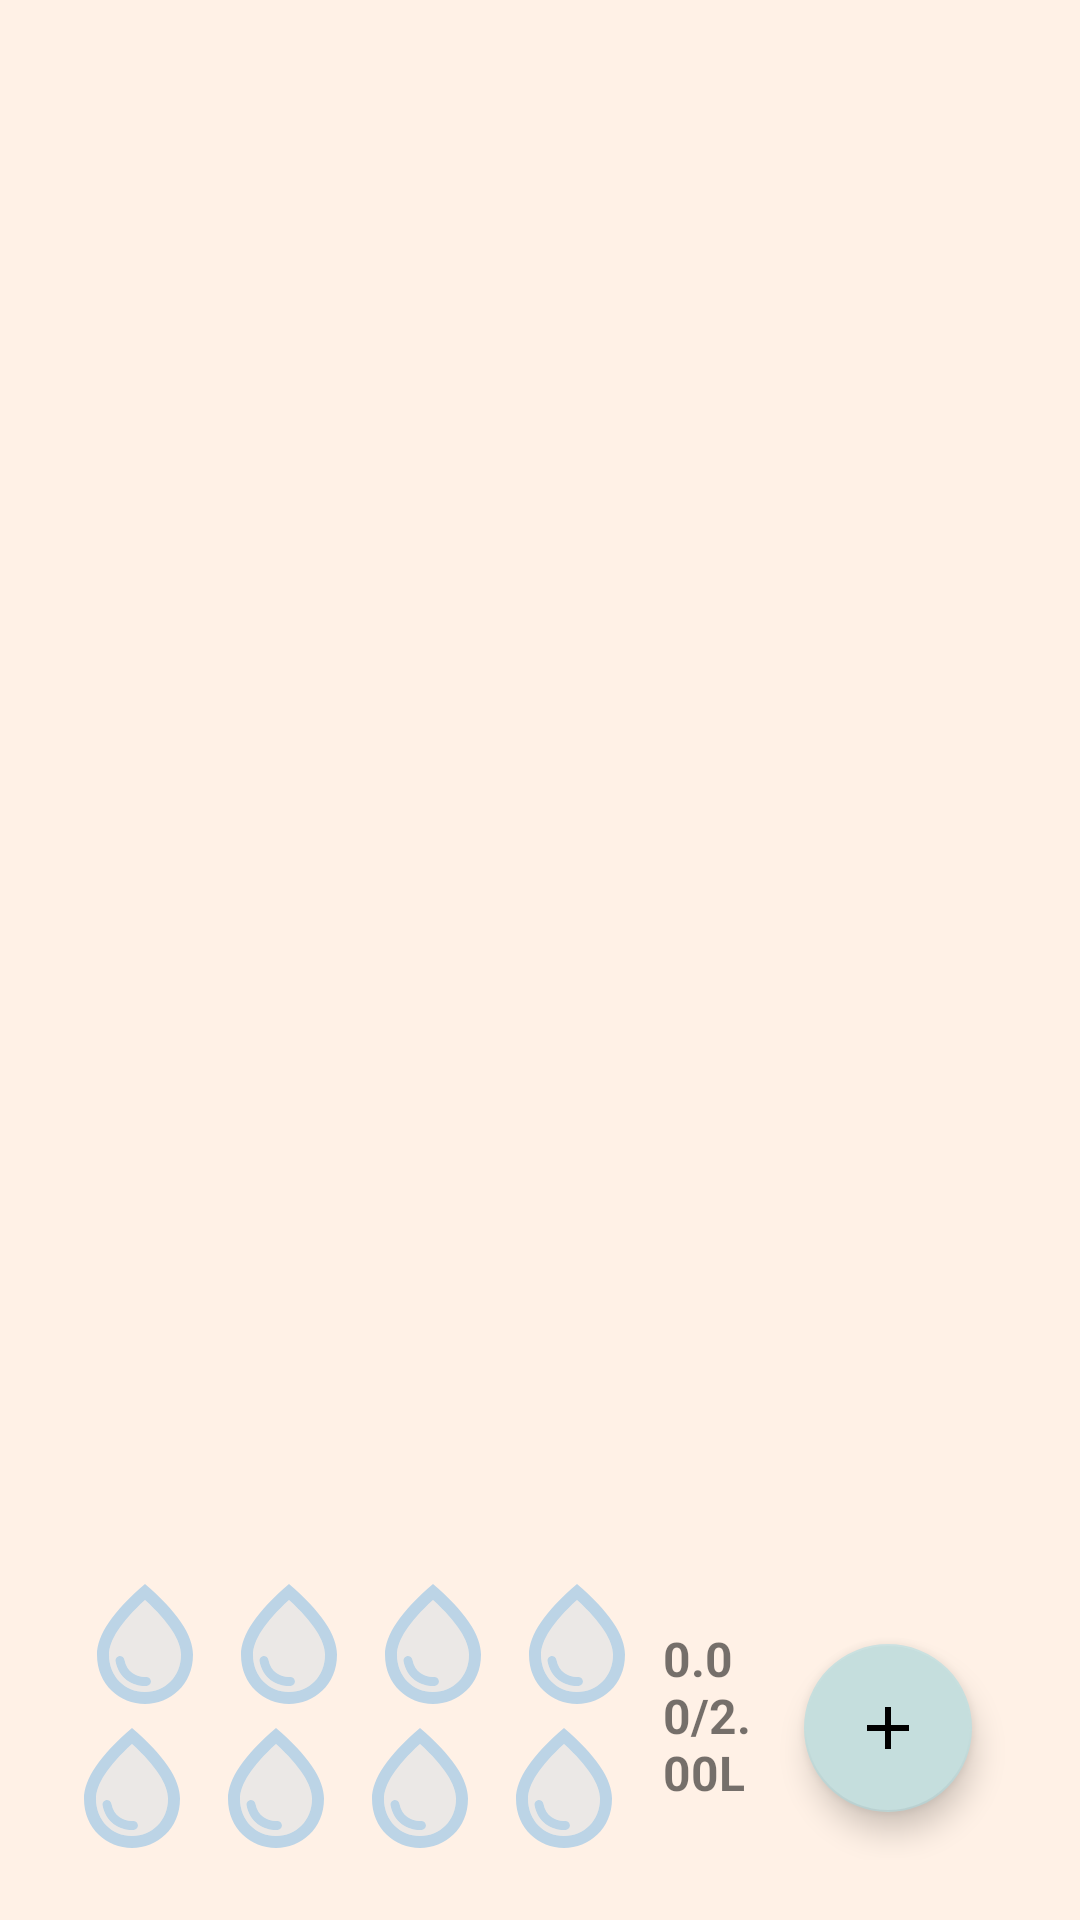

Screen size 1080x1920. Icon name, then its box in pixels as rect(x1, y1, x2, y2):
Add new item to your routine: rect(804, 1644, 972, 1812)
water drop empty: rect(97, 1584, 193, 1704), rect(241, 1584, 337, 1704), rect(385, 1584, 481, 1704), rect(529, 1584, 625, 1704), rect(84, 1728, 180, 1848), rect(228, 1728, 324, 1848), rect(372, 1728, 468, 1848), rect(516, 1728, 612, 1848)
